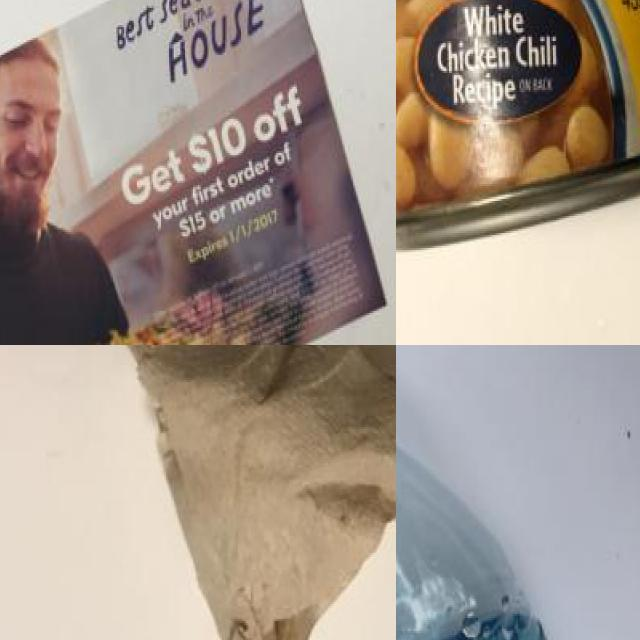paper: (0, 0, 389, 345)
plastic: (396, 345, 640, 640), (396, 0, 640, 254)
trash: (91, 345, 396, 640)
